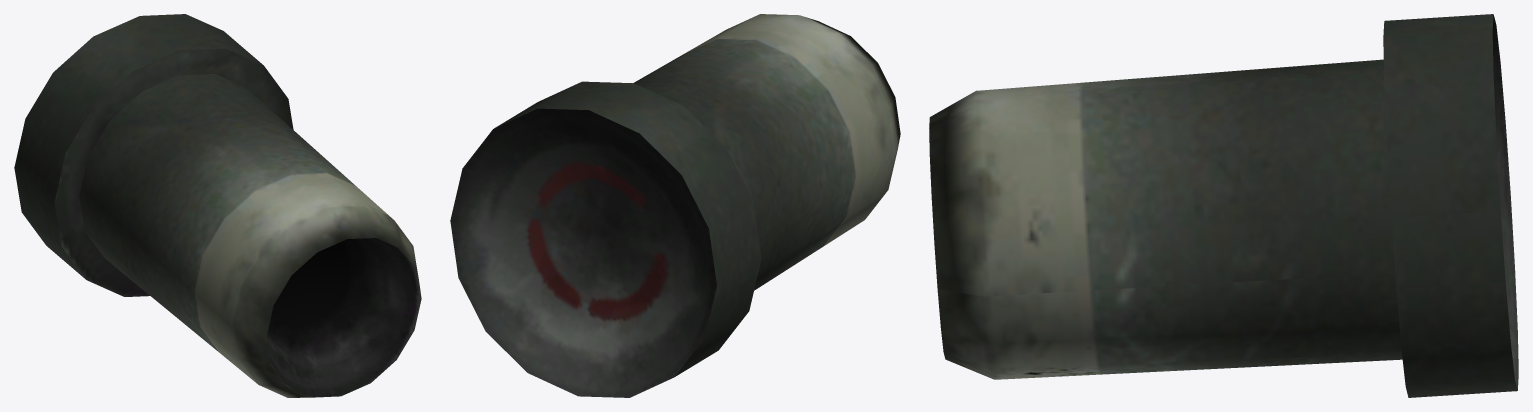
File: w_AR2Shell.fbx
3 views of the same model, side by side, from view 1: azimuth 30°, elevation 25°; view 2: azimuth 150°, elevation 25°; view 3: azimuth 270°, elevation 25° (orthographic). The views are drawn at different scales.
Parts seen in each view (by area): view 1: irifleshell; view 2: irifleshell; view 3: irifleshell.
Boxes of the visible parts, x1,y1,x2,y2 form: irifleshell: [14, 14, 421, 397]; irifleshell: [450, 14, 900, 397]; irifleshell: [929, 14, 1518, 397].
Size of the model in its own units: 141 by 143 by 220.
